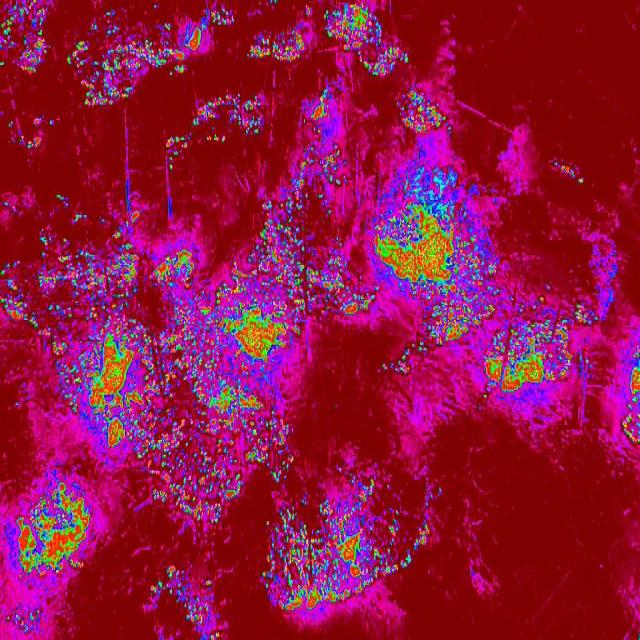fire: (47, 240, 307, 520), (0, 0, 222, 106), (374, 163, 500, 347), (269, 488, 430, 614), (477, 306, 594, 408), (14, 479, 93, 580), (322, 5, 412, 80), (158, 560, 228, 640), (306, 241, 372, 324), (396, 87, 446, 138), (623, 354, 640, 447)
